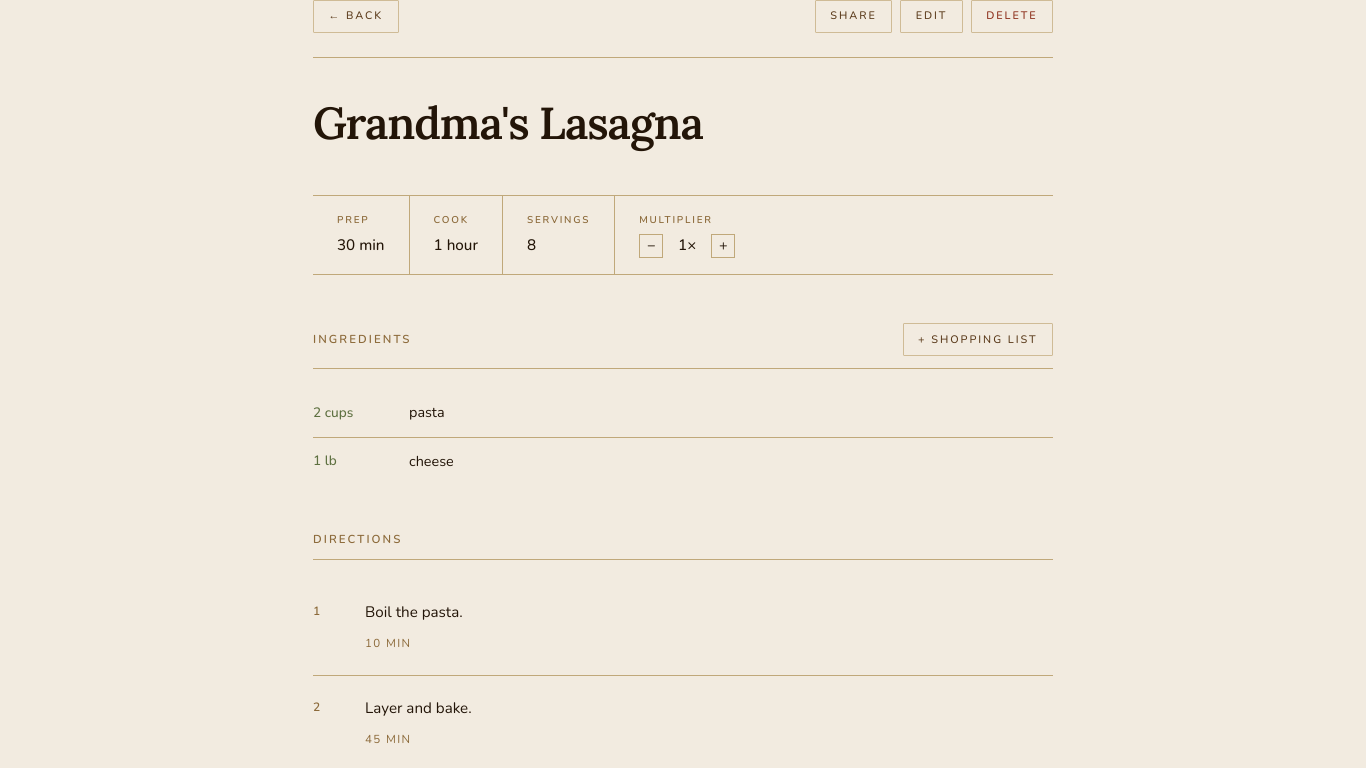
it: RecipeViewer › shows error message if delete fails
Expected: the heading "Grandma's Lasagna" is shown, [313,94,703,151]
Step 1. Click the button "Delete" → (1012, 16), box [971,0,1053,33]
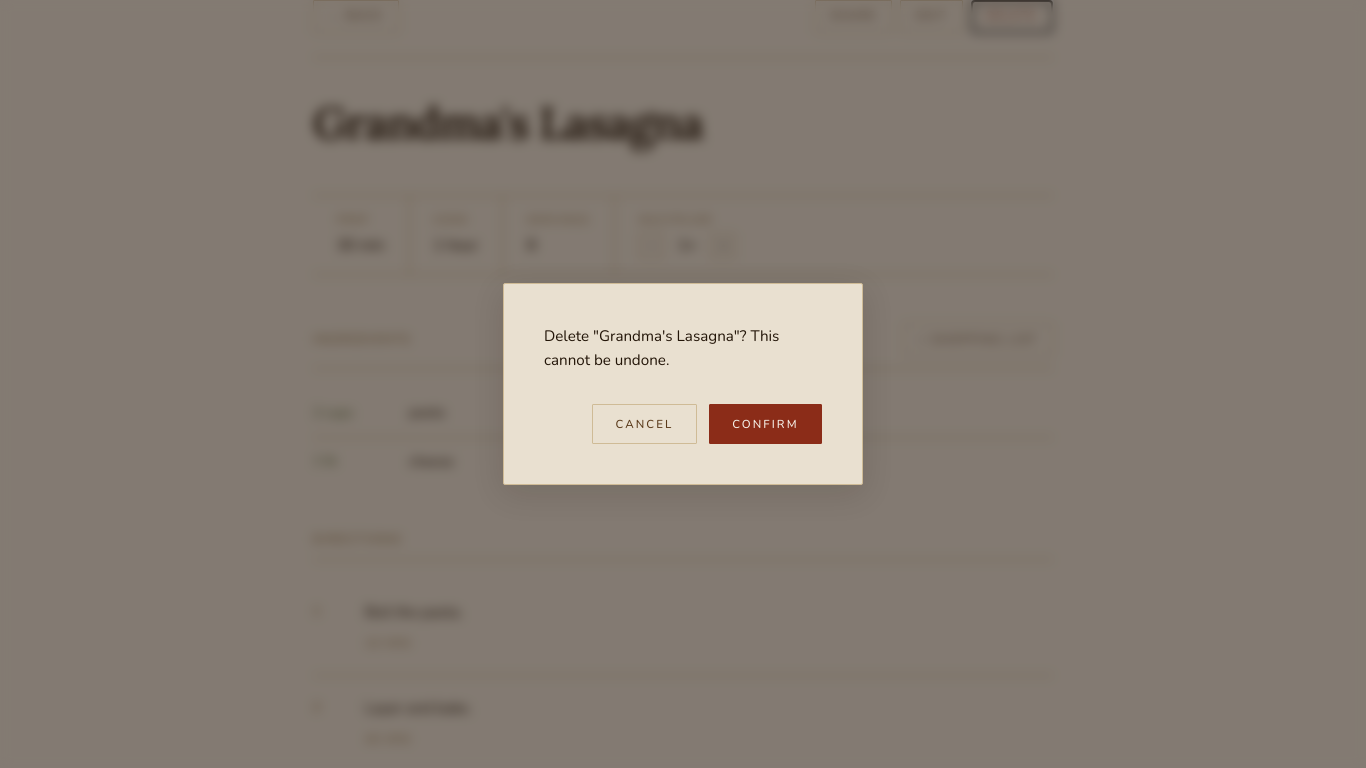
Step 2. Click the button "Confirm" → (765, 424), box [709,404,822,444]
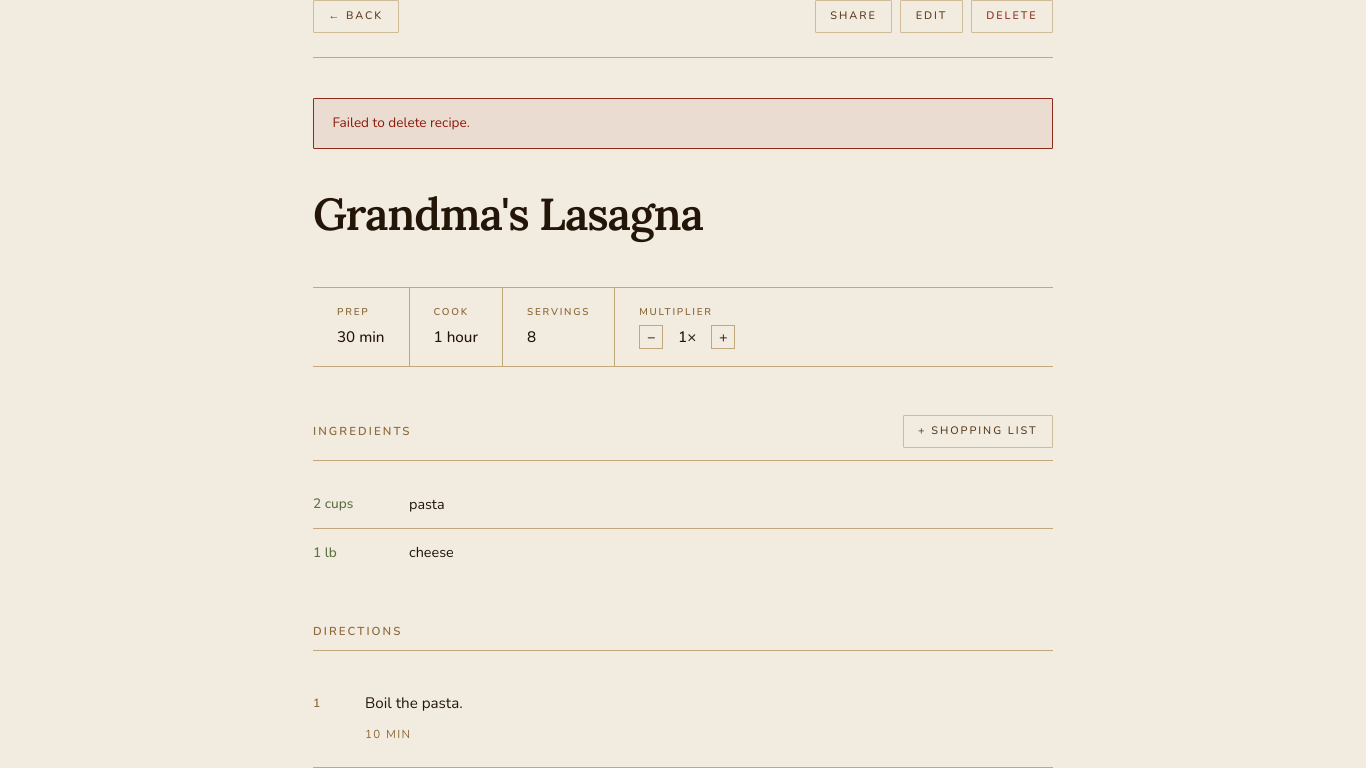
Result: the text "Failed to delete recipe." is shown at [313,98,1053,149]
